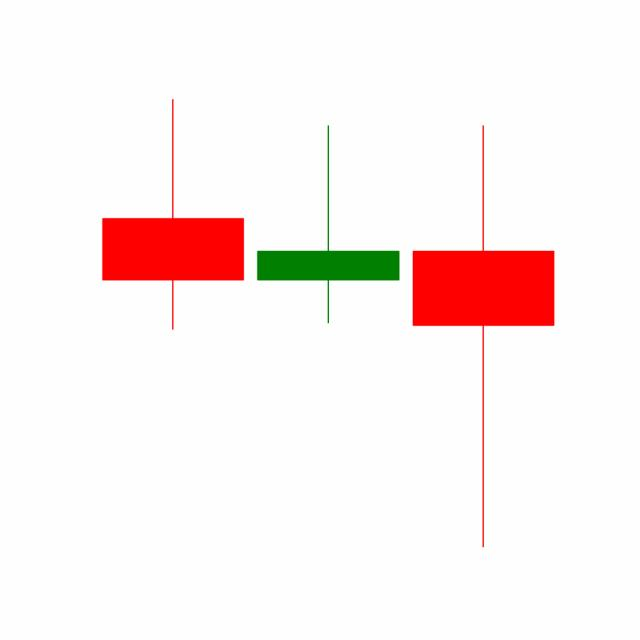Spinning Top: (249, 122, 406, 326)
